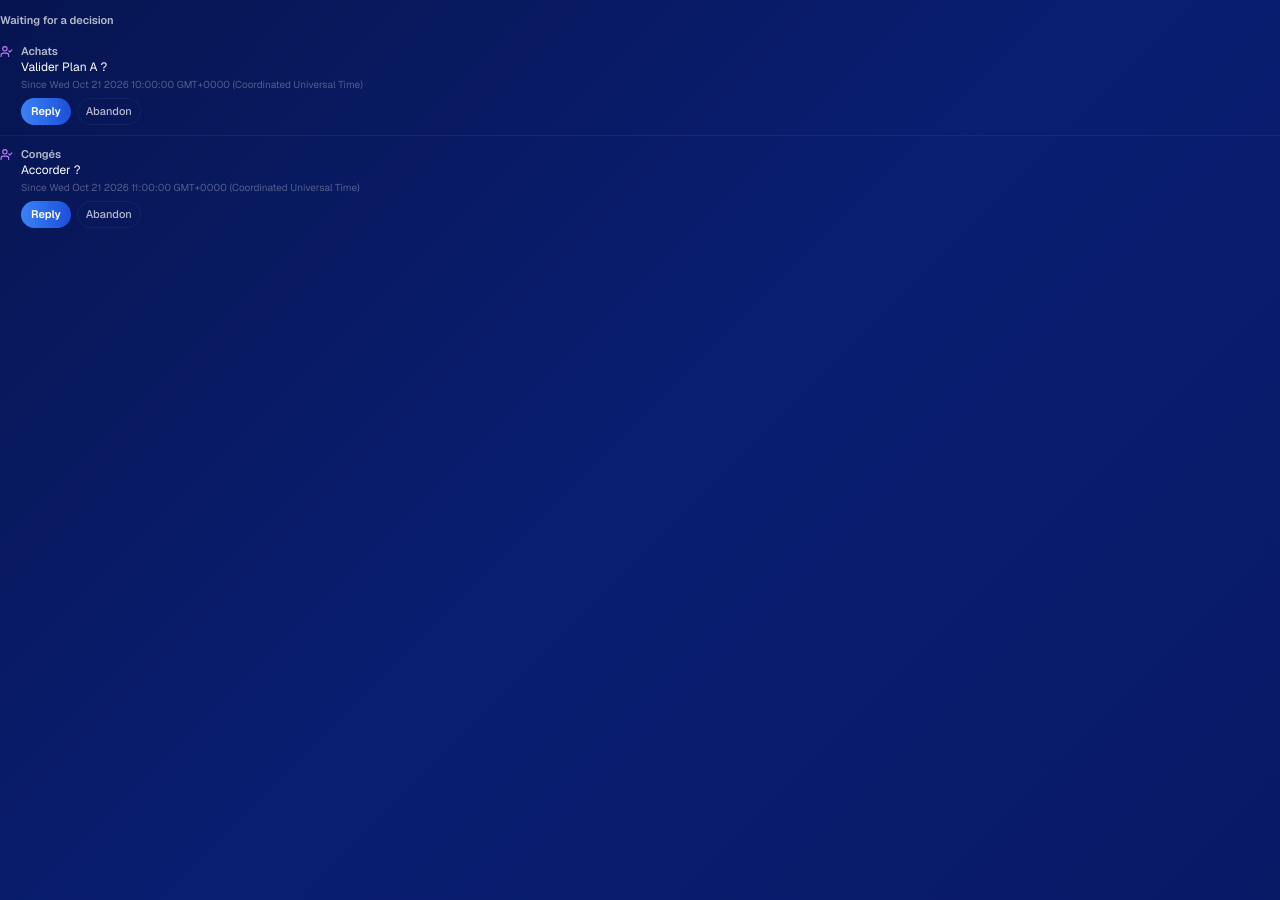
Scenario: AwaitingDecisionsList › Later leaves the run waiting
Click the button "Reply" below "Valider Plan A ?". click: (46,111)
box: [21,98,71,124]
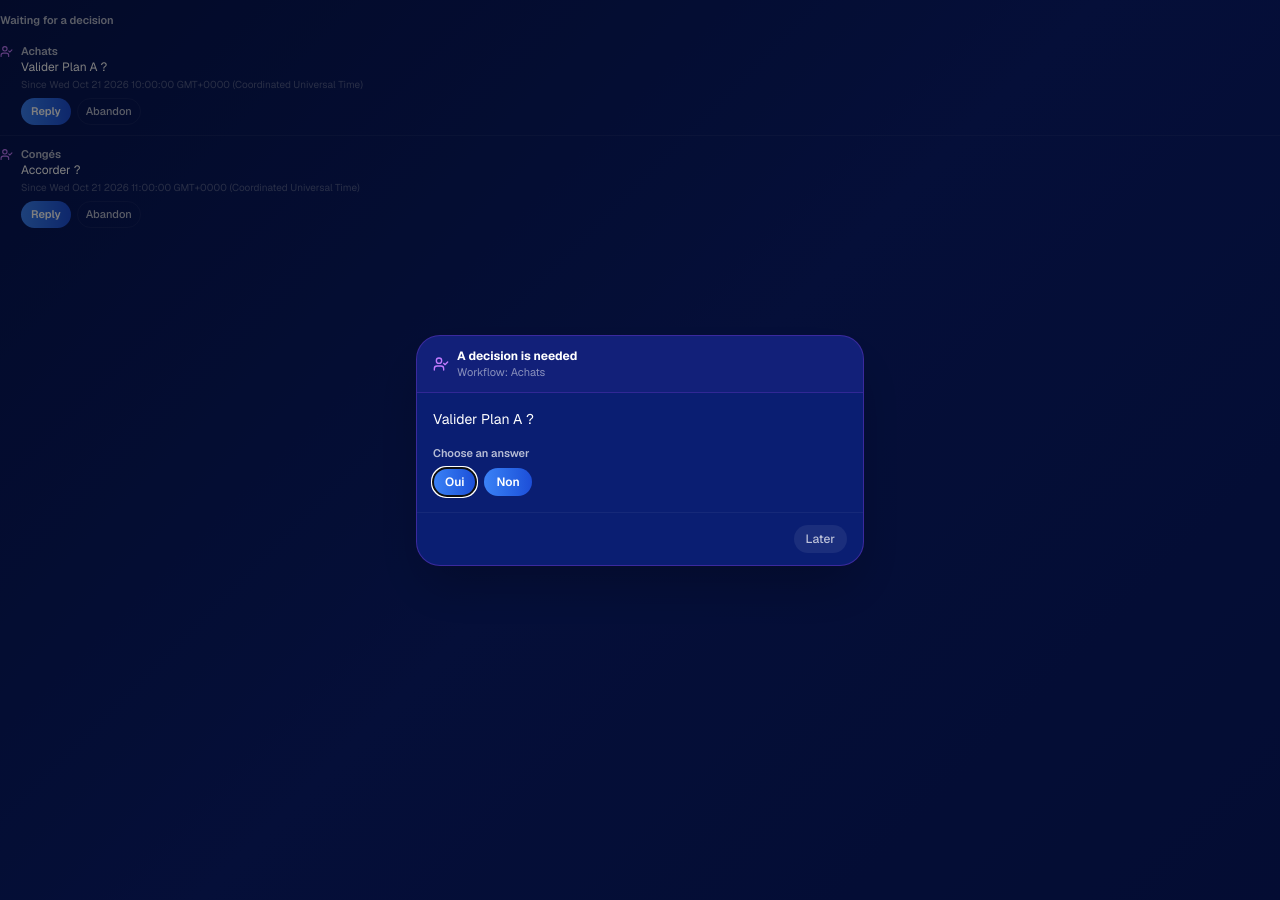
Click the button "Later". click: (820,538)
box: [794,524,847,552]
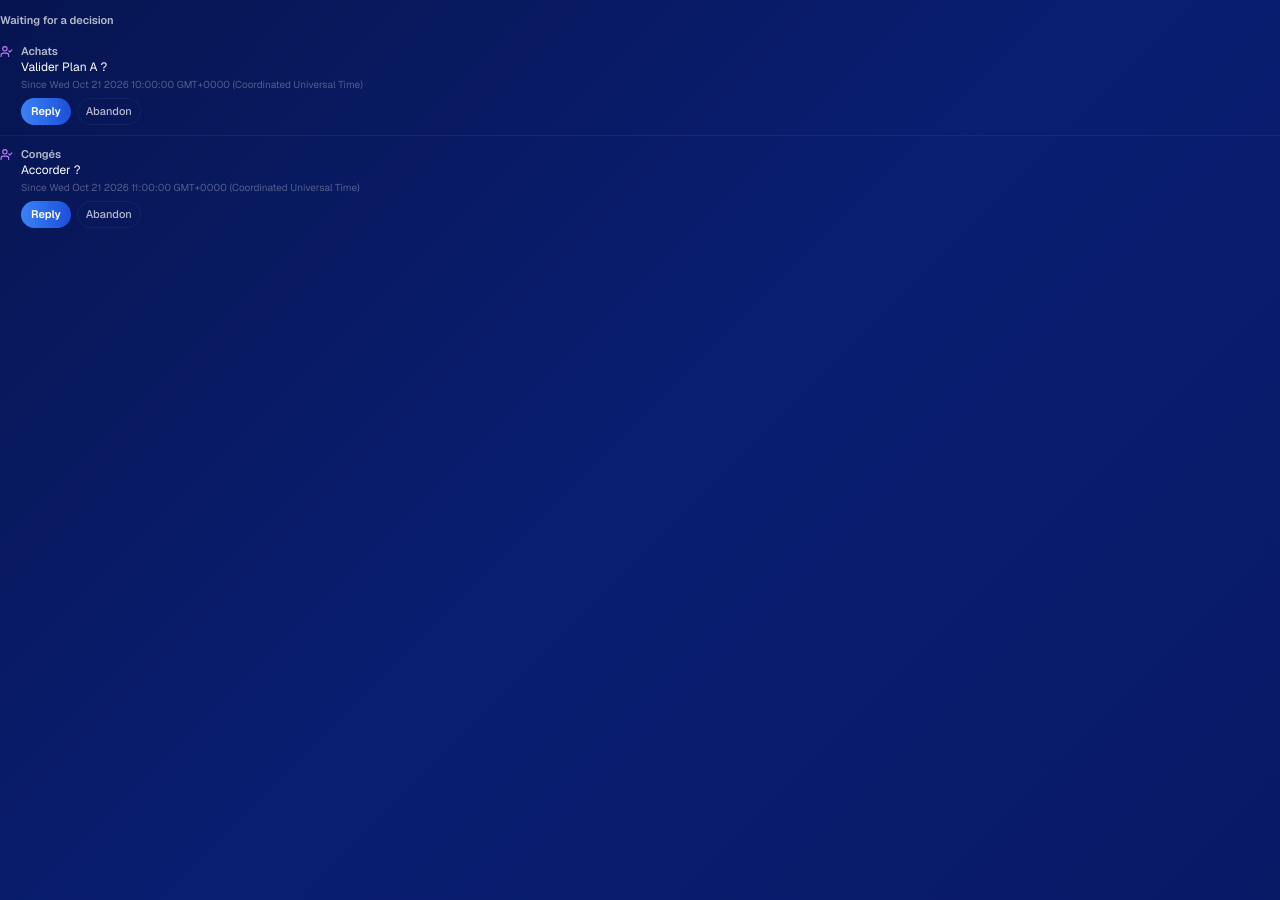
Check: the text "Valider Plan A ?" is shown, box [21,59,107,75]
Check: the dialog is gone
